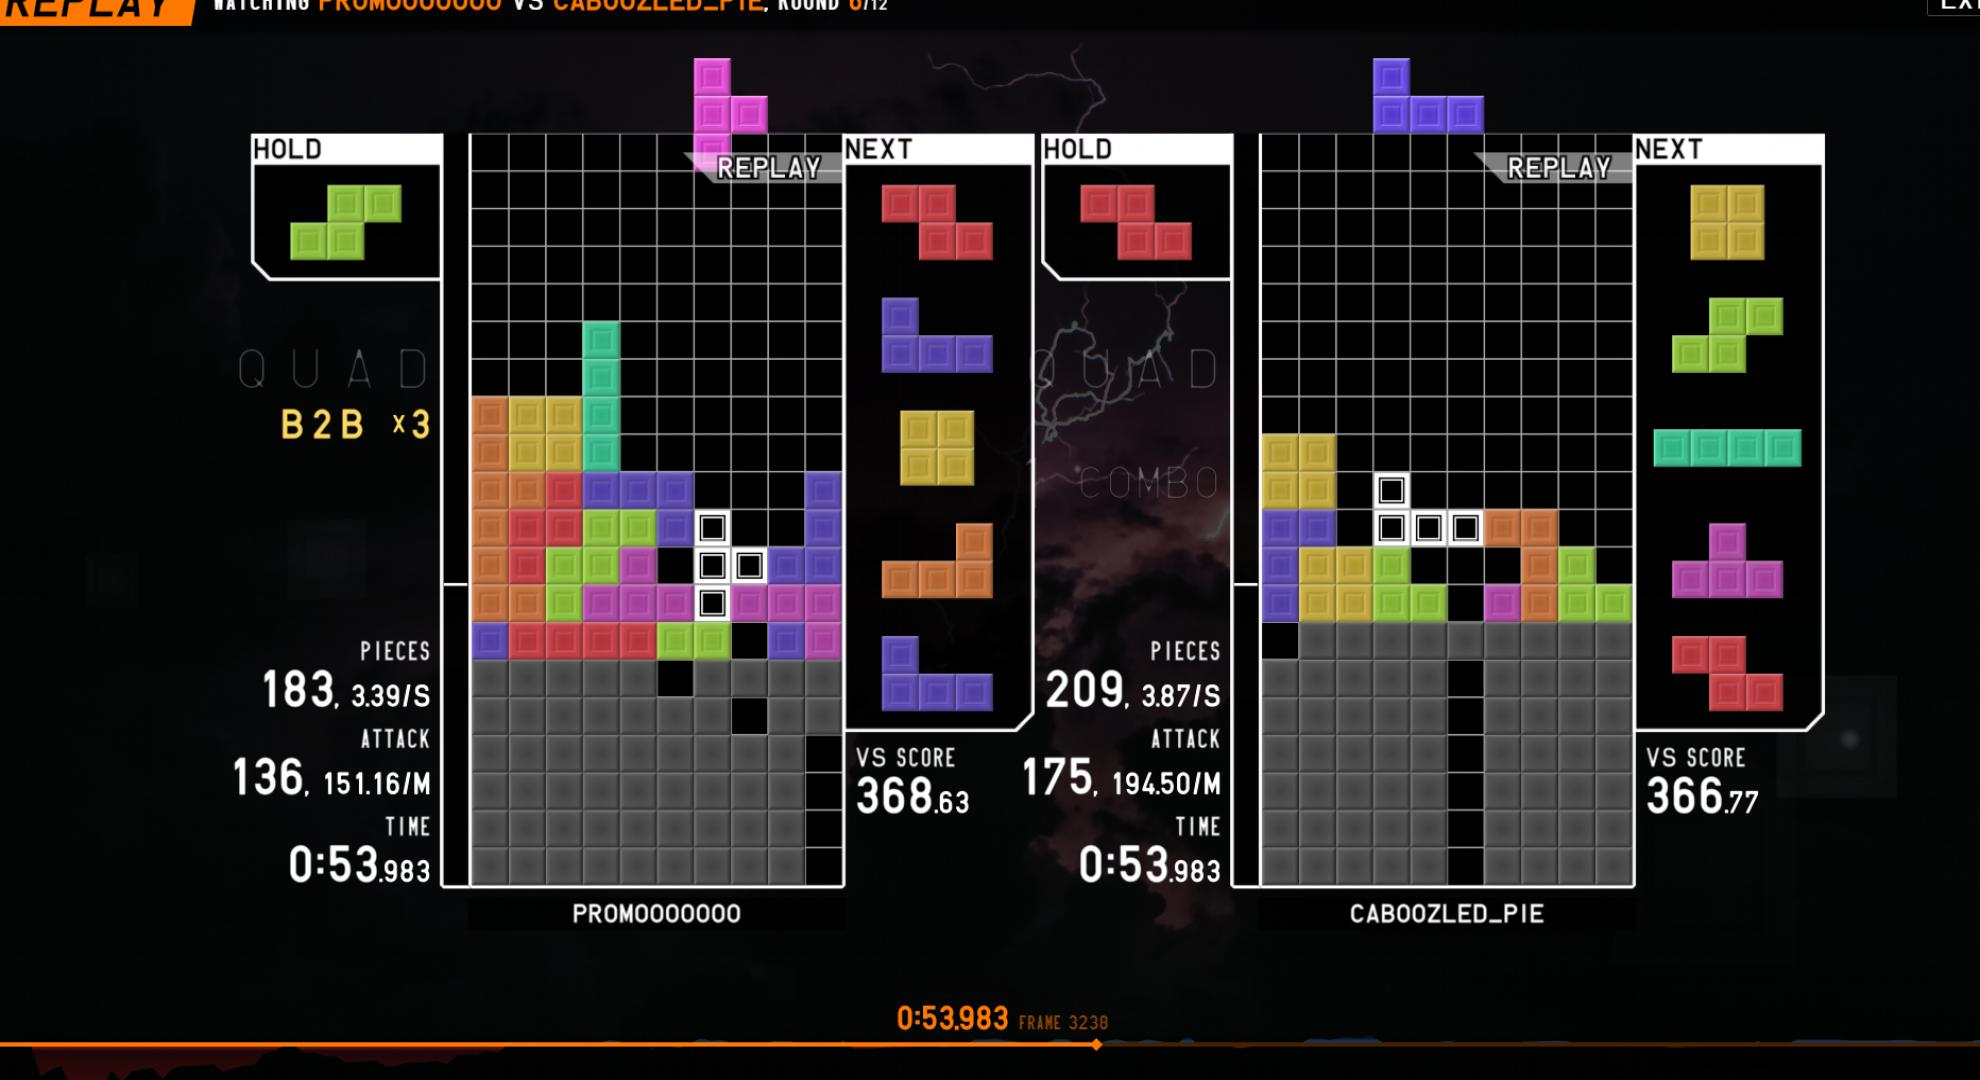tspin: (1411, 507, 1523, 628), (653, 505, 770, 618)
